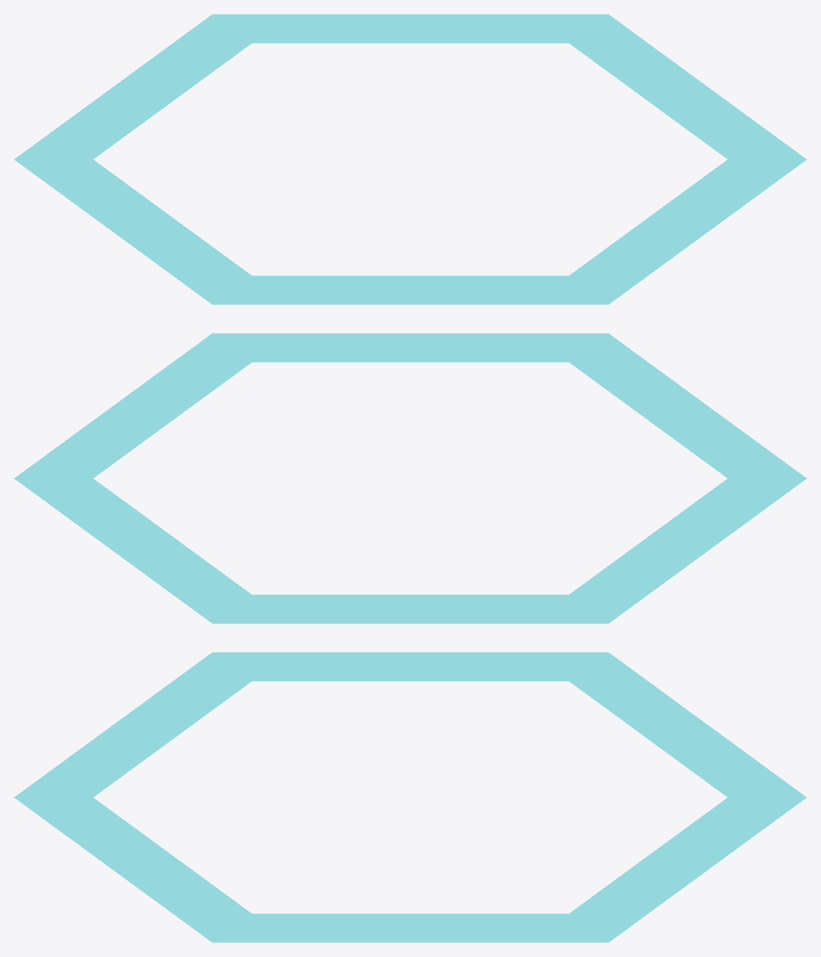
File: hex_flat_outline.fbx
3 renders of one model, top to bottom at view 1: azimuth 30°, elevation 25°; view 2: azimuth 150°, elevation 25°; view 3: azimuth 270°, elevation 25°, orthographic.
Parts seen in each view (by area): view 1: hex_water_outline; view 2: hex_water_outline; view 3: hex_water_outline.
Boxes of the visible parts, box(x1,y1,x2,y2) form: hex_water_outline: box(14, 14, 806, 304); hex_water_outline: box(14, 333, 806, 623); hex_water_outline: box(14, 652, 806, 942).
Size of the model in its own units: 220 by 4.14e-05 by 254.
